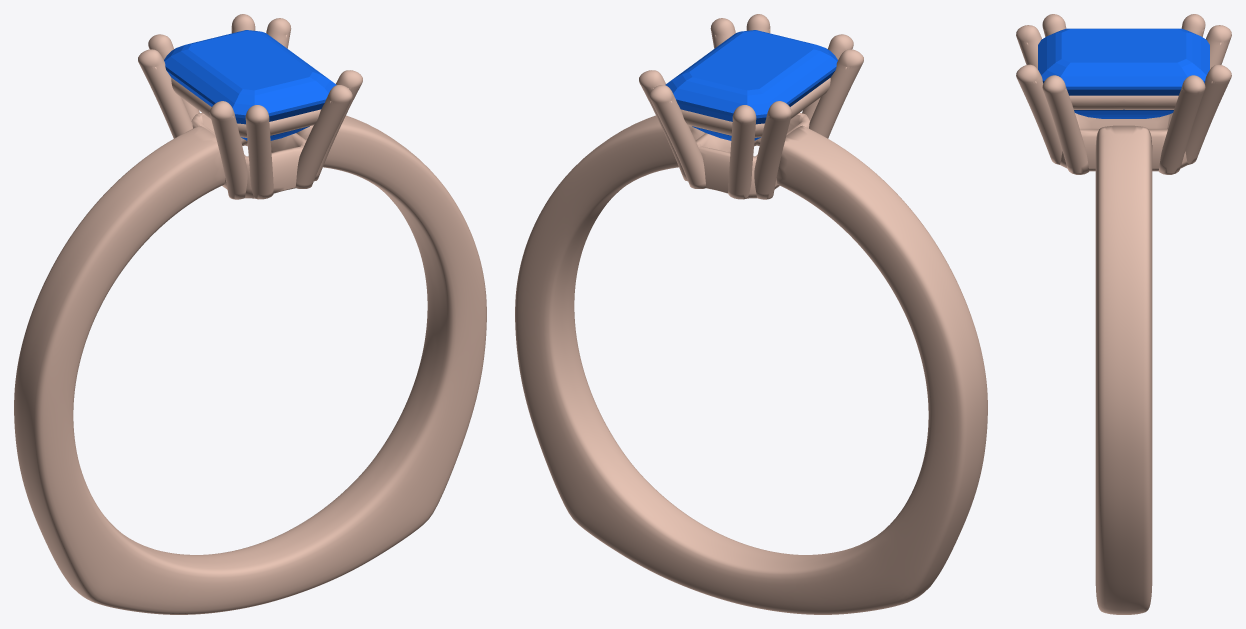
The model's file is bluesapphire-emerald-rosegold-8prong-europeanshank-solitaire.glb.
3 views of the same model, side by side, from view 1: azimuth 30°, elevation 25°; view 2: azimuth 150°, elevation 25°; view 3: azimuth 270°, elevation 25° (orthographic).
Visible parts, largest first — view 1: metal, stone; view 2: metal, stone; view 3: metal, stone.
Boxes of the visible parts, bbox=[...] form: metal: bbox=[14, 14, 486, 614]; stone: bbox=[164, 30, 336, 140]; metal: bbox=[515, 14, 987, 614]; stone: bbox=[665, 30, 837, 140]; metal: bbox=[1016, 14, 1231, 614]; stone: bbox=[1038, 28, 1209, 118].
Size of the model in its own units: 20.1 by 22.75 by 8.4.
